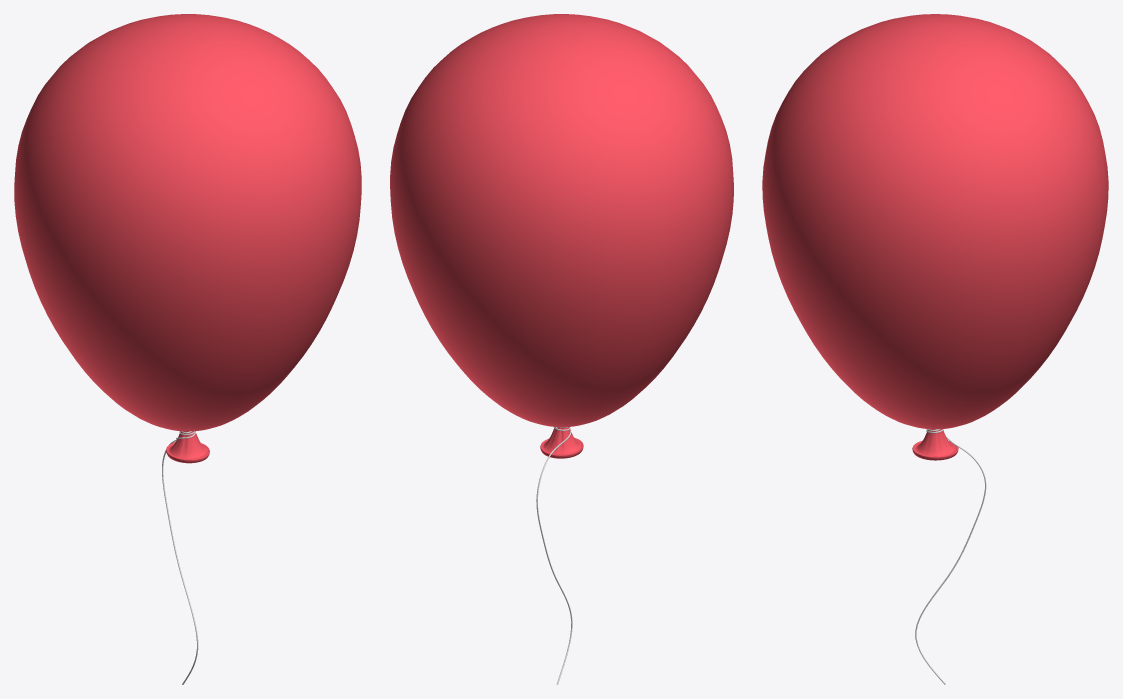
Rendered from Balloon.obj.
The picture shows the model from 3 angles, left to right: view 1: azimuth 30°, elevation 25°; view 2: azimuth 150°, elevation 25°; view 3: azimuth 270°, elevation 25°; orthographic projection.
Visible parts, largest first — view 1: Ballon Balloon, String1 Ballon; view 2: Ballon Balloon, String1 Ballon; view 3: Ballon Balloon, String1 Ballon.
Boxes of the visible parts, bbox=[...] form: Ballon Balloon: bbox=[14, 14, 361, 463]; String1 Ballon: bbox=[162, 431, 198, 684]; Ballon Balloon: bbox=[390, 14, 733, 458]; String1 Ballon: bbox=[536, 427, 572, 684]; Ballon Balloon: bbox=[762, 14, 1108, 460]; String1 Ballon: bbox=[915, 429, 986, 684].
Bounding box in the file's own units: 0.8871 × 1.85 × 0.8871.
